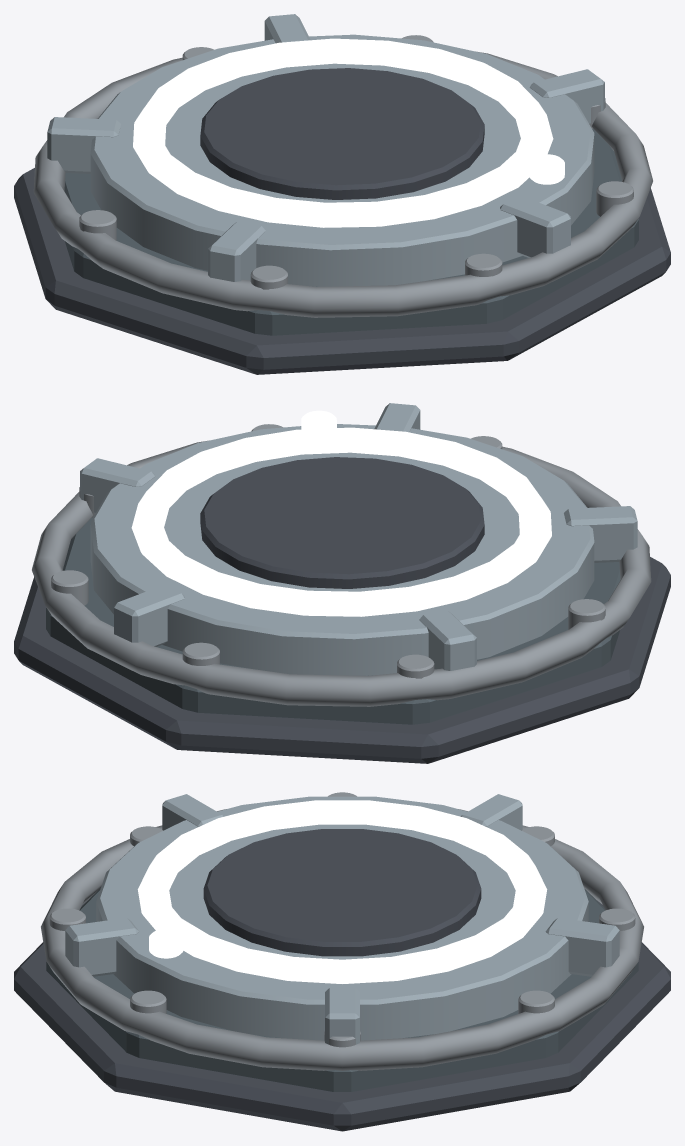
Rendered from rail_base_l1.glb.
3 renders of one model, top to bottom at view 1: azimuth 30°, elevation 25°; view 2: azimuth 150°, elevation 25°; view 3: azimuth 270°, elevation 25°, orthographic. The views are drawn at different scales.
Parts seen in each view (by area): view 1: Cylinder.002, Cylinder.003, Cylinder, Torus, Torus.001, Cylinder.001, Cube.004, Cube.002, Cube.003, Cube, Cube.001, Cylinder.012 (+4 smaller); view 2: Cylinder.002, Cylinder.003, Cylinder, Torus, Torus.001, Cylinder.001, Cube.001, Cube.003, Cube.002, Cube, Cube.004, Cylinder.005 (+4 smaller); view 3: Cylinder.002, Cylinder, Cylinder.003, Torus, Torus.001, Cylinder.001, Cube.001, Cube.004, Cube, Cube.002, Cube.003, Cylinder.012 (+4 smaller).
Boxes of the visible parts, <box> form: Cylinder.002: <box>90,34,594,286</box>; Cylinder.003: <box>200,68,484,199</box>; Cylinder: <box>14,168,670,374</box>; Torus: <box>33,51,652,317</box>; Torus.001: <box>133,38,553,227</box>; Cylinder.001: <box>64,129,638,335</box>; Cube.004: <box>500,196,570,257</box>; Cube.002: <box>47,117,120,173</box>; Cube.003: <box>208,221,265,281</box>; Cube: <box>530,69,604,123</box>; Cube.001: <box>264,14,310,43</box>; Cylinder.012: <box>529,154,564,184</box>; Cylinder.002: <box>90,424,594,675</box>; Cylinder.003: <box>200,457,484,588</box>; Cylinder: <box>14,557,670,763</box>; Torus: <box>32,440,651,706</box>; Torus.001: <box>131,427,551,616</box>; Cylinder.001: <box>46,518,620,724</box>; Cube.001: <box>114,585,184,646</box>; Cube.003: <box>564,506,637,562</box>; Cube.002: <box>419,610,476,670</box>; Cube: <box>80,458,154,512</box>; Cube.004: <box>374,403,420,432</box>; Cylinder.005: <box>51,570,88,605</box>; Cylinder.002: <box>96,796,588,1040</box>; Cylinder: <box>14,900,670,1131</box>; Cylinder.003: <box>203,829,481,956</box>; Torus: <box>41,809,643,1070</box>; Torus.001: <box>137,800,547,983</box>; Cylinder.001: <box>46,889,638,1091</box>; Cube.001: <box>545,918,619,976</box>; Cube.004: <box>65,918,139,976</box>; Cube: <box>325,988,359,1044</box>; Cube.002: <box>460,794,522,830</box>; Cube.003: <box>162,794,224,830</box>; Cylinder.012: <box>149,929,183,958</box>.
Size of the model in its own units: 2.08 by 0.4 by 2.08.
